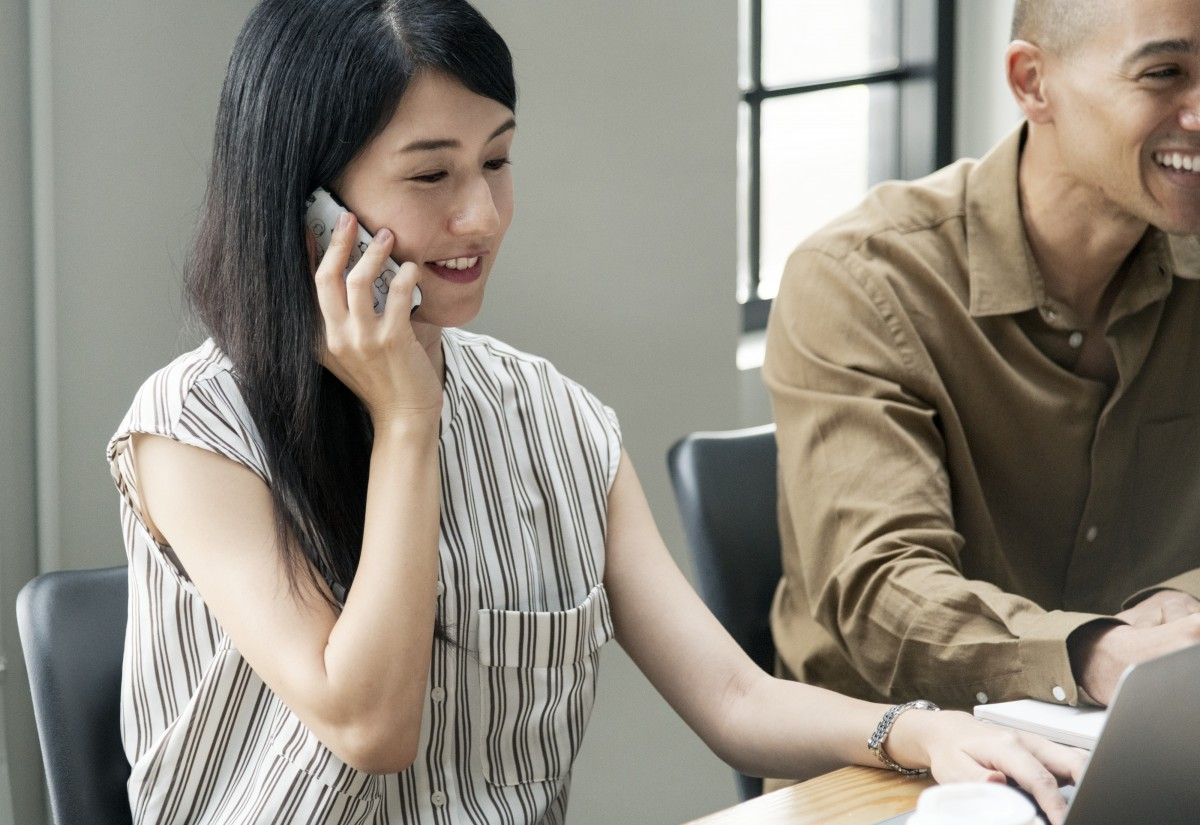phone: (272, 194, 438, 349)
talk: (289, 107, 519, 422)
